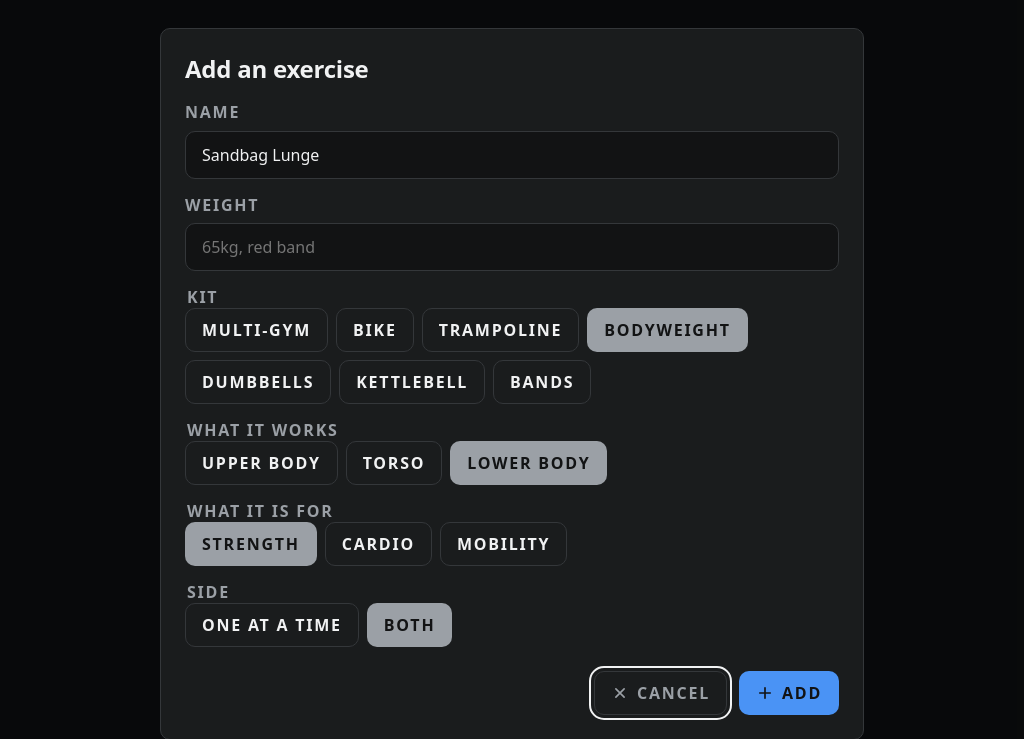
adding an exercise of your own › asks about push or pull for the upper body only
Check: the button "Push" is not shown
Click the button "Upper body" at x=261, y=463, box [185, 441, 338, 485]
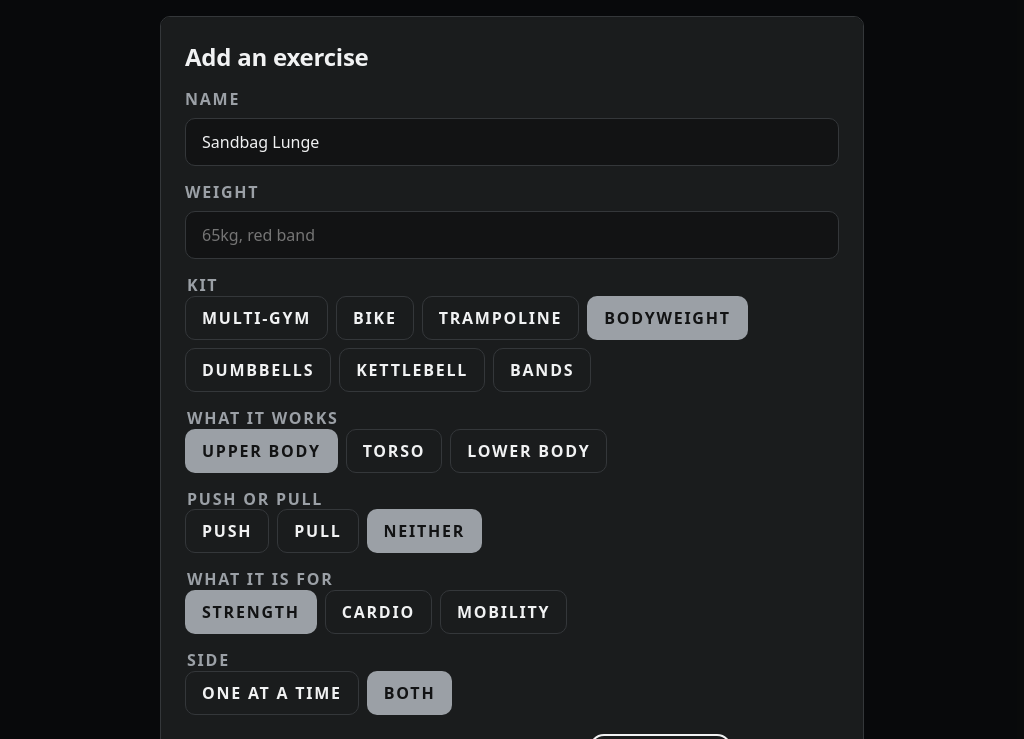
Check: the button "Push" is shown, box [185, 509, 269, 553]
